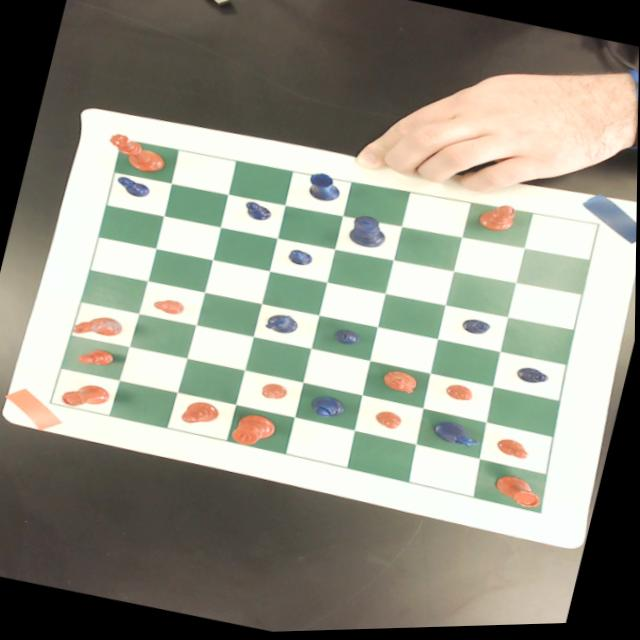B: (308, 394, 347, 424)
K: (346, 214, 390, 253)
N: (429, 420, 485, 454), (263, 312, 301, 338)
P: (112, 174, 150, 200), (514, 367, 551, 390), (241, 200, 273, 224), (459, 319, 491, 340), (331, 328, 361, 349), (285, 248, 314, 269)
R: (304, 171, 344, 207)
b: (476, 201, 519, 238), (179, 398, 221, 431)
k: (229, 410, 278, 453)
n: (70, 310, 127, 344), (379, 370, 422, 399)
p: (75, 344, 116, 371), (493, 438, 533, 465), (443, 383, 476, 406), (150, 297, 186, 318), (372, 410, 404, 433), (258, 382, 289, 403)
q: (103, 131, 169, 178)
r: (487, 471, 551, 516), (57, 376, 112, 415)
